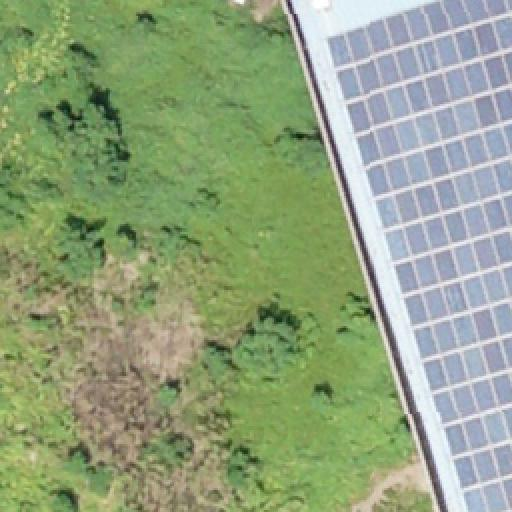solar-panel: (329, 0, 511, 512)
